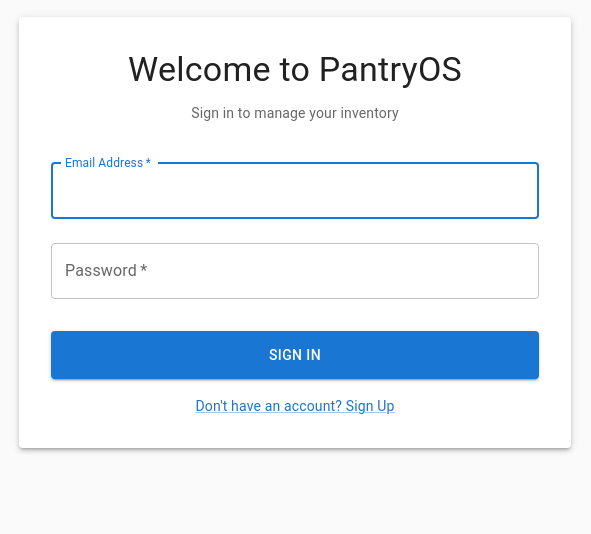
Test: Login Component › form submission › should show generic error message when login fails without specific error
The width and height of the screenshot is (591, 534).
Type "test@example.com" into the field labelled "Email Address *" at (295, 191), box [51,163,539,219]
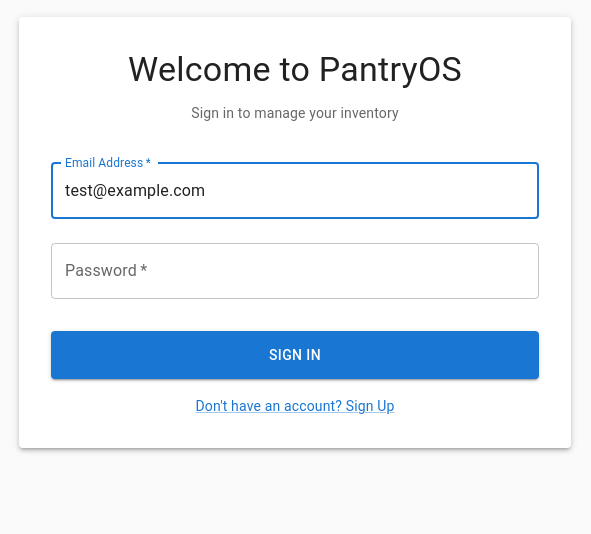
Type "password123" into the password field labelled "Password *" at (295, 271), box [51,243,539,299]
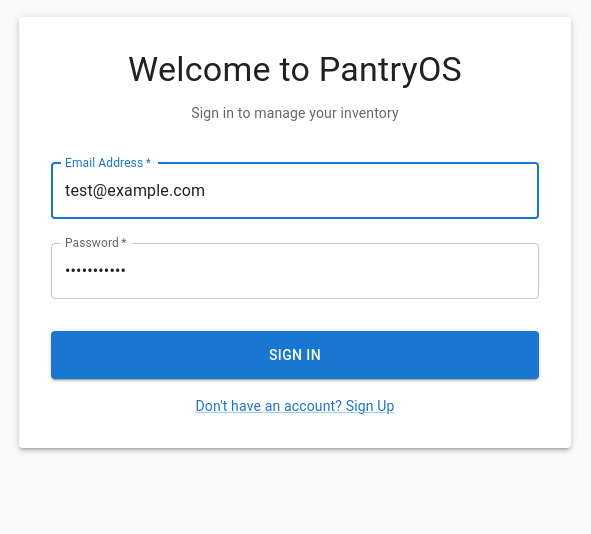
Click the button "Sign In" at (295, 355), box [51,331,539,379]
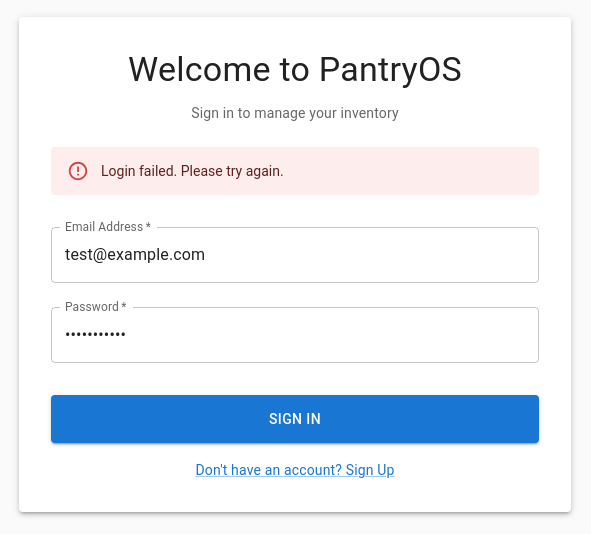
Check: the text "Login failed. Please try again." is shown, box [101,163,284,179]
